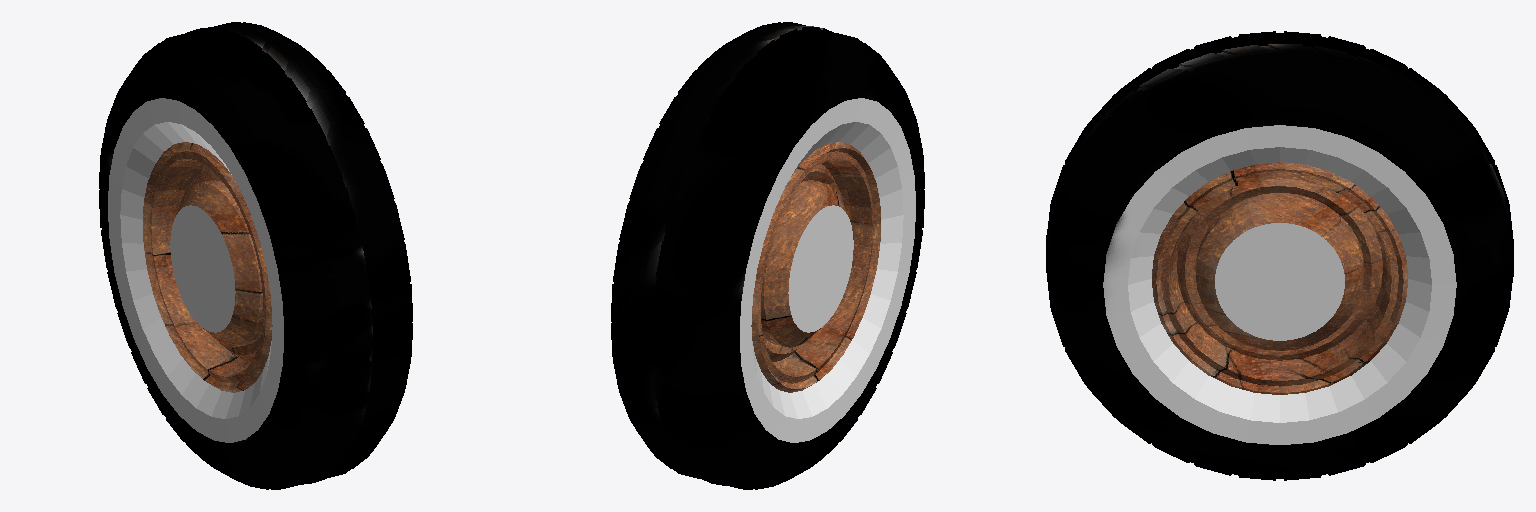
3 renders of one model, left to right at view 1: azimuth 30°, elevation 25°; view 2: azimuth 150°, elevation 25°; view 3: azimuth 270°, elevation 25°, orthographic.
Parts seen in each view (by area): view 1: tyre.002_Cylinder; view 2: tyre.002_Cylinder; view 3: tyre.002_Cylinder.
Boxes of the visible parts, box(x1,y1,x2,y2) form: tyre.002_Cylinder: box(99, 22, 412, 489); tyre.002_Cylinder: box(611, 22, 924, 489); tyre.002_Cylinder: box(1046, 31, 1513, 480).
Size of the model in its own units: 0.6582 by 2.23 by 2.23.
1 materials, 1 textured.